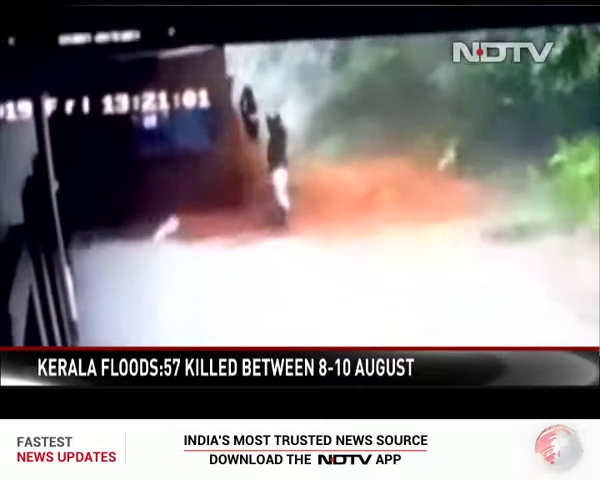person: (264, 111, 291, 225)
